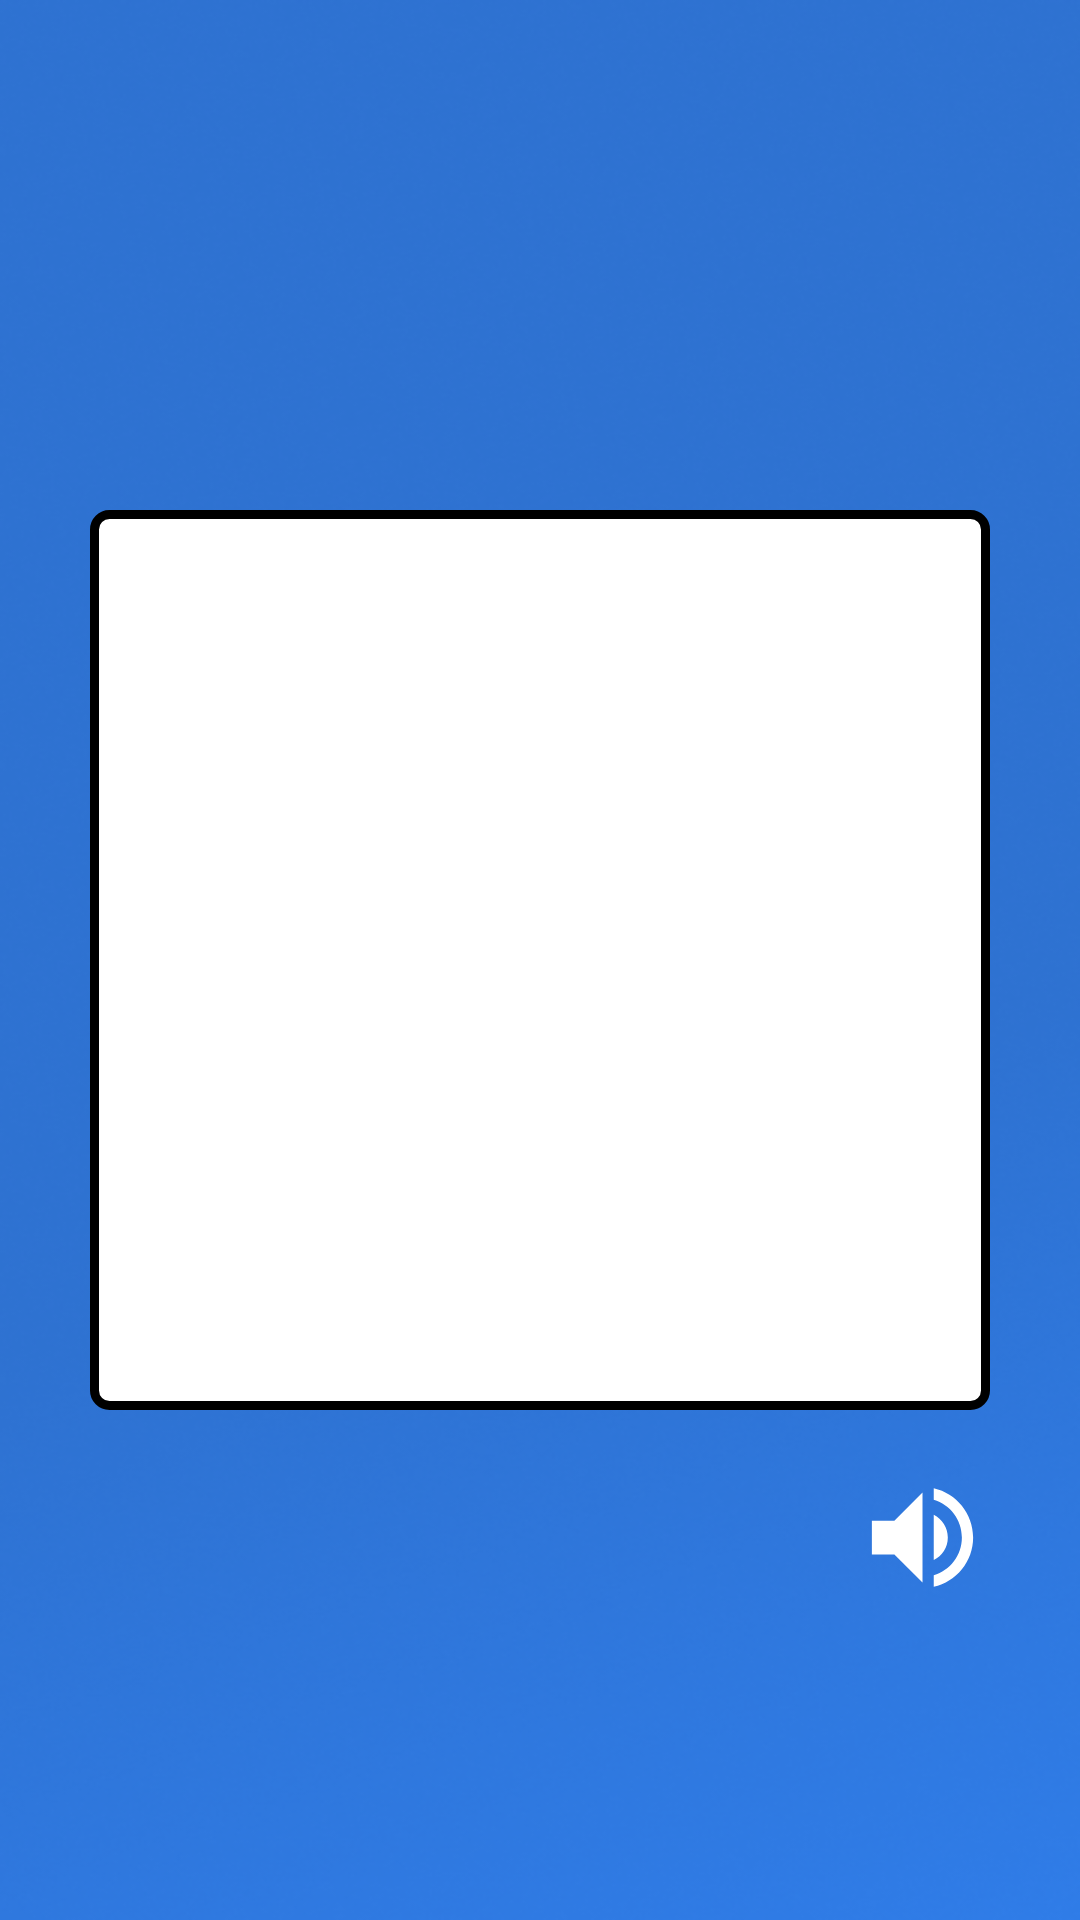

Icons on this 1080 x 1920 Android screen, each with the point to tap as (x,y):
icon sound: (922,1537)
